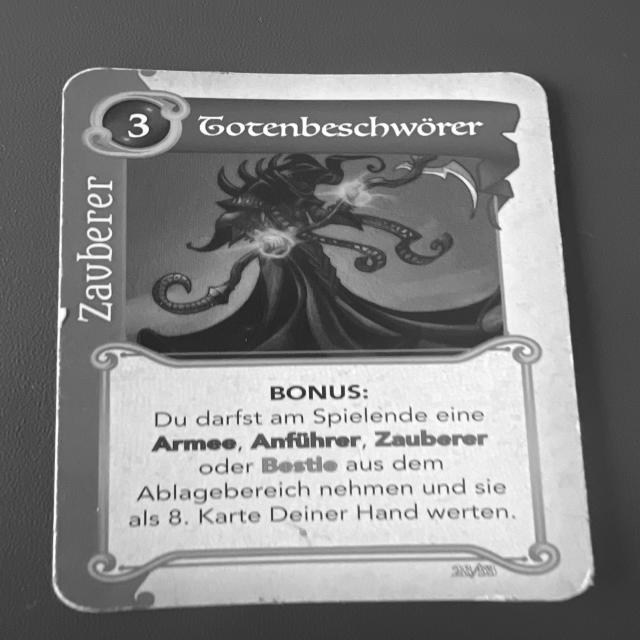Necromancer: (57, 68, 600, 621)
